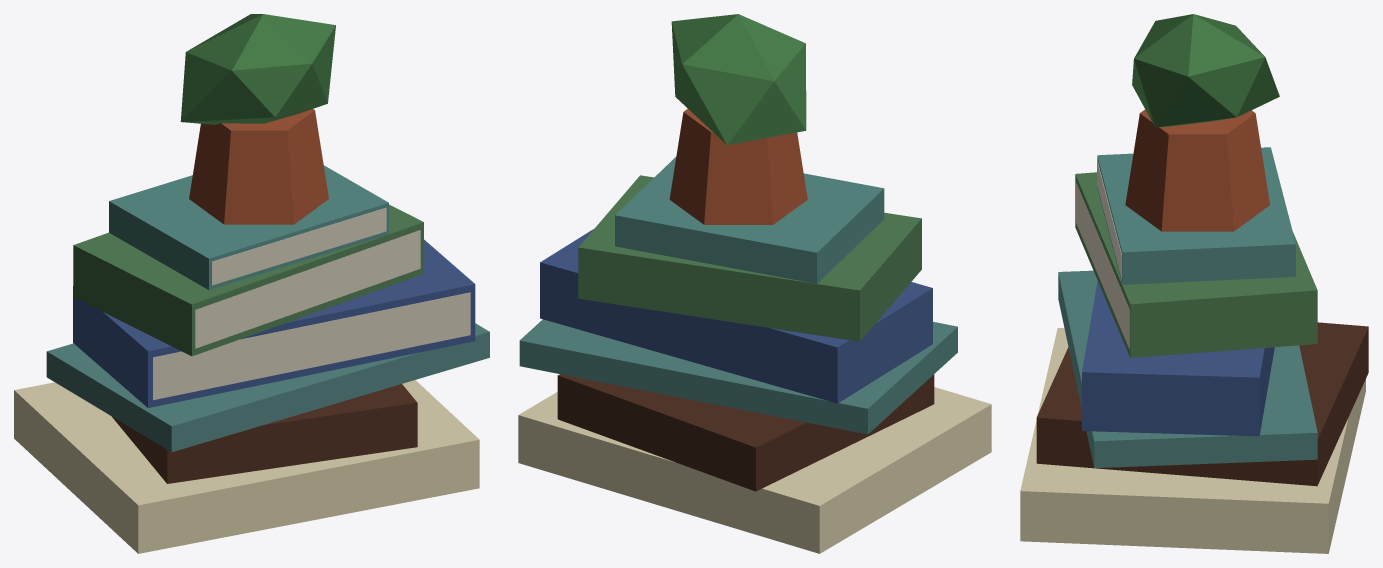
File: book-stack-42.glb
3 renders of one model, left to right at view 1: azimuth 30°, elevation 25°; view 2: azimuth 150°, elevation 25°; view 3: azimuth 270°, elevation 25°, orthographic. The views are drawn at different scales.
Parts seen in each view (by area): view 1: book_stack_42; view 2: book_stack_42; view 3: book_stack_42.
Boxes of the visible parts, x1=… form: book_stack_42: x1=14, y1=14, x2=489, y2=553; book_stack_42: x1=518, y1=14, x2=991, y2=553; book_stack_42: x1=1020, y1=14, x2=1368, y2=553.
Size of the model in its own units: 0.3045 by 0.3509 by 0.2407.
